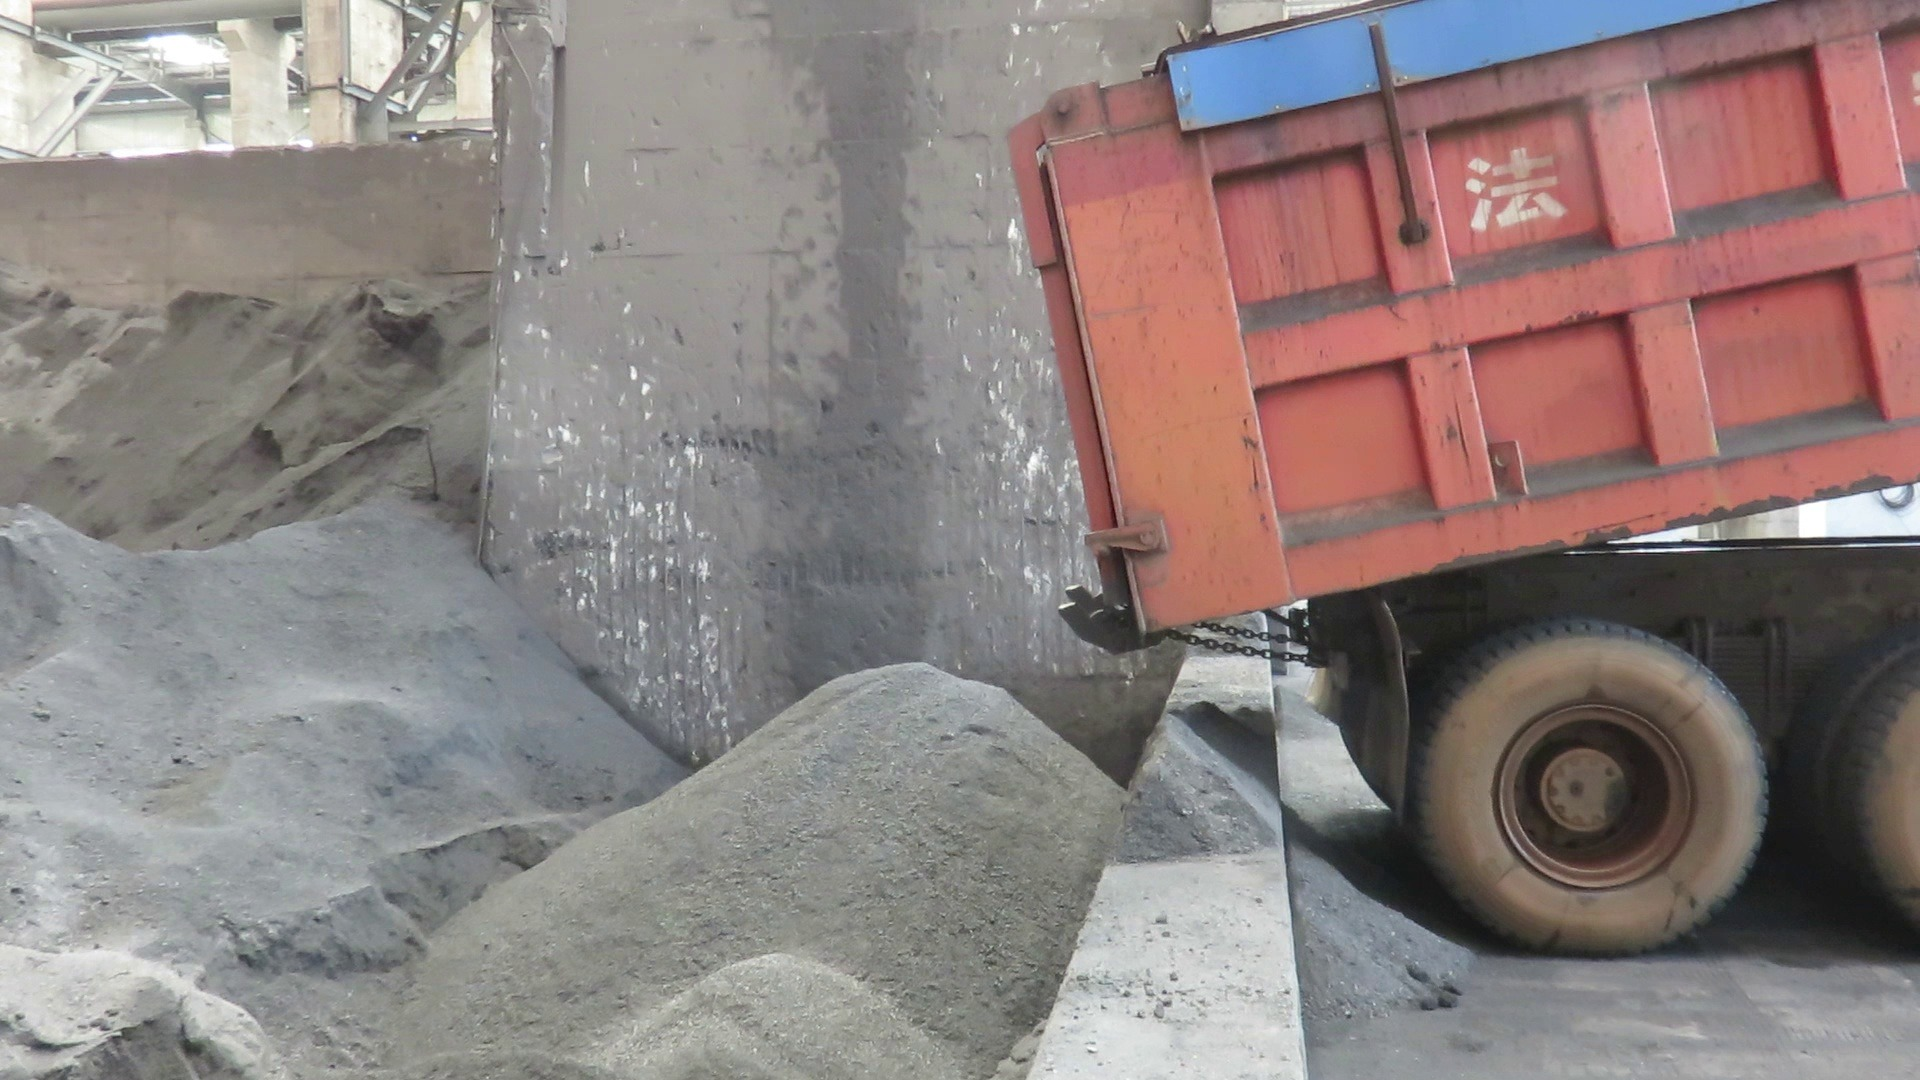truck: (996, 0, 1920, 978)
